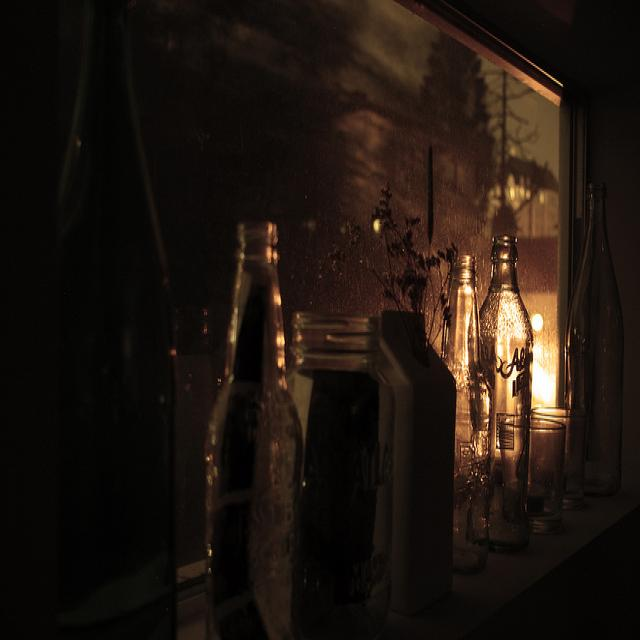Bottle: (56, 15, 182, 640), (207, 194, 302, 640), (284, 298, 399, 640), (440, 249, 502, 589), (569, 172, 627, 504), (482, 226, 539, 554)
Cup: (529, 414, 567, 535), (559, 399, 591, 509)
